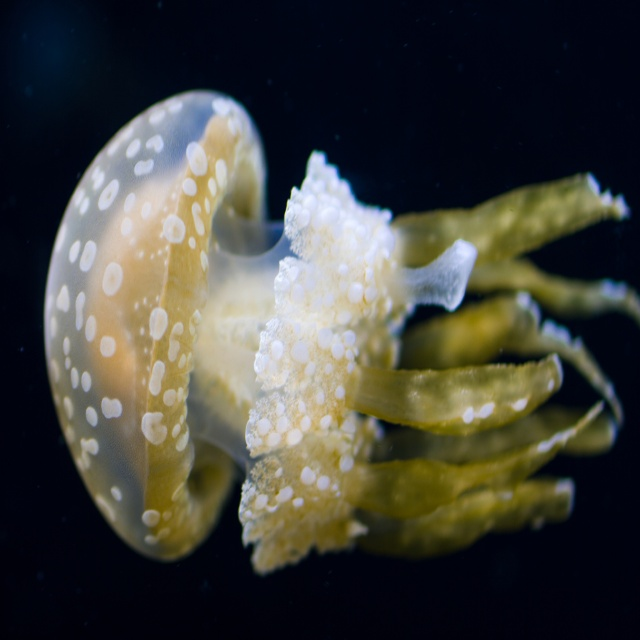Jellyfish: (44, 103, 530, 569)
